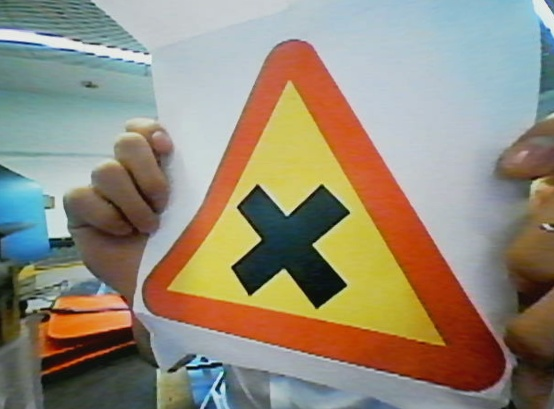junction: (120, 30, 514, 409)
